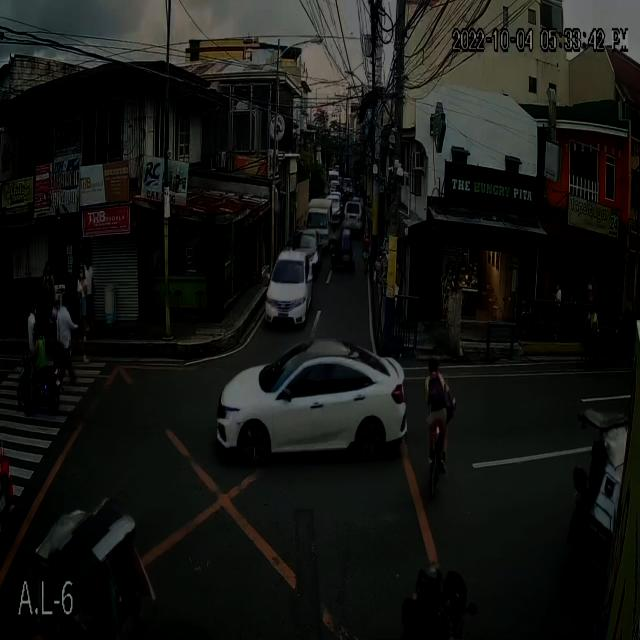Full-Faced: (413, 559, 446, 607), (30, 319, 46, 345)
